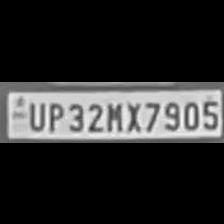0: (180, 96, 198, 130)
2: (84, 97, 104, 130)
3: (64, 97, 84, 130)
5: (200, 96, 218, 130)
7: (140, 97, 160, 128)
9: (159, 97, 179, 128)
M: (104, 98, 122, 132)
P: (44, 99, 64, 130)
U: (24, 97, 44, 128)
X: (122, 97, 142, 130)
